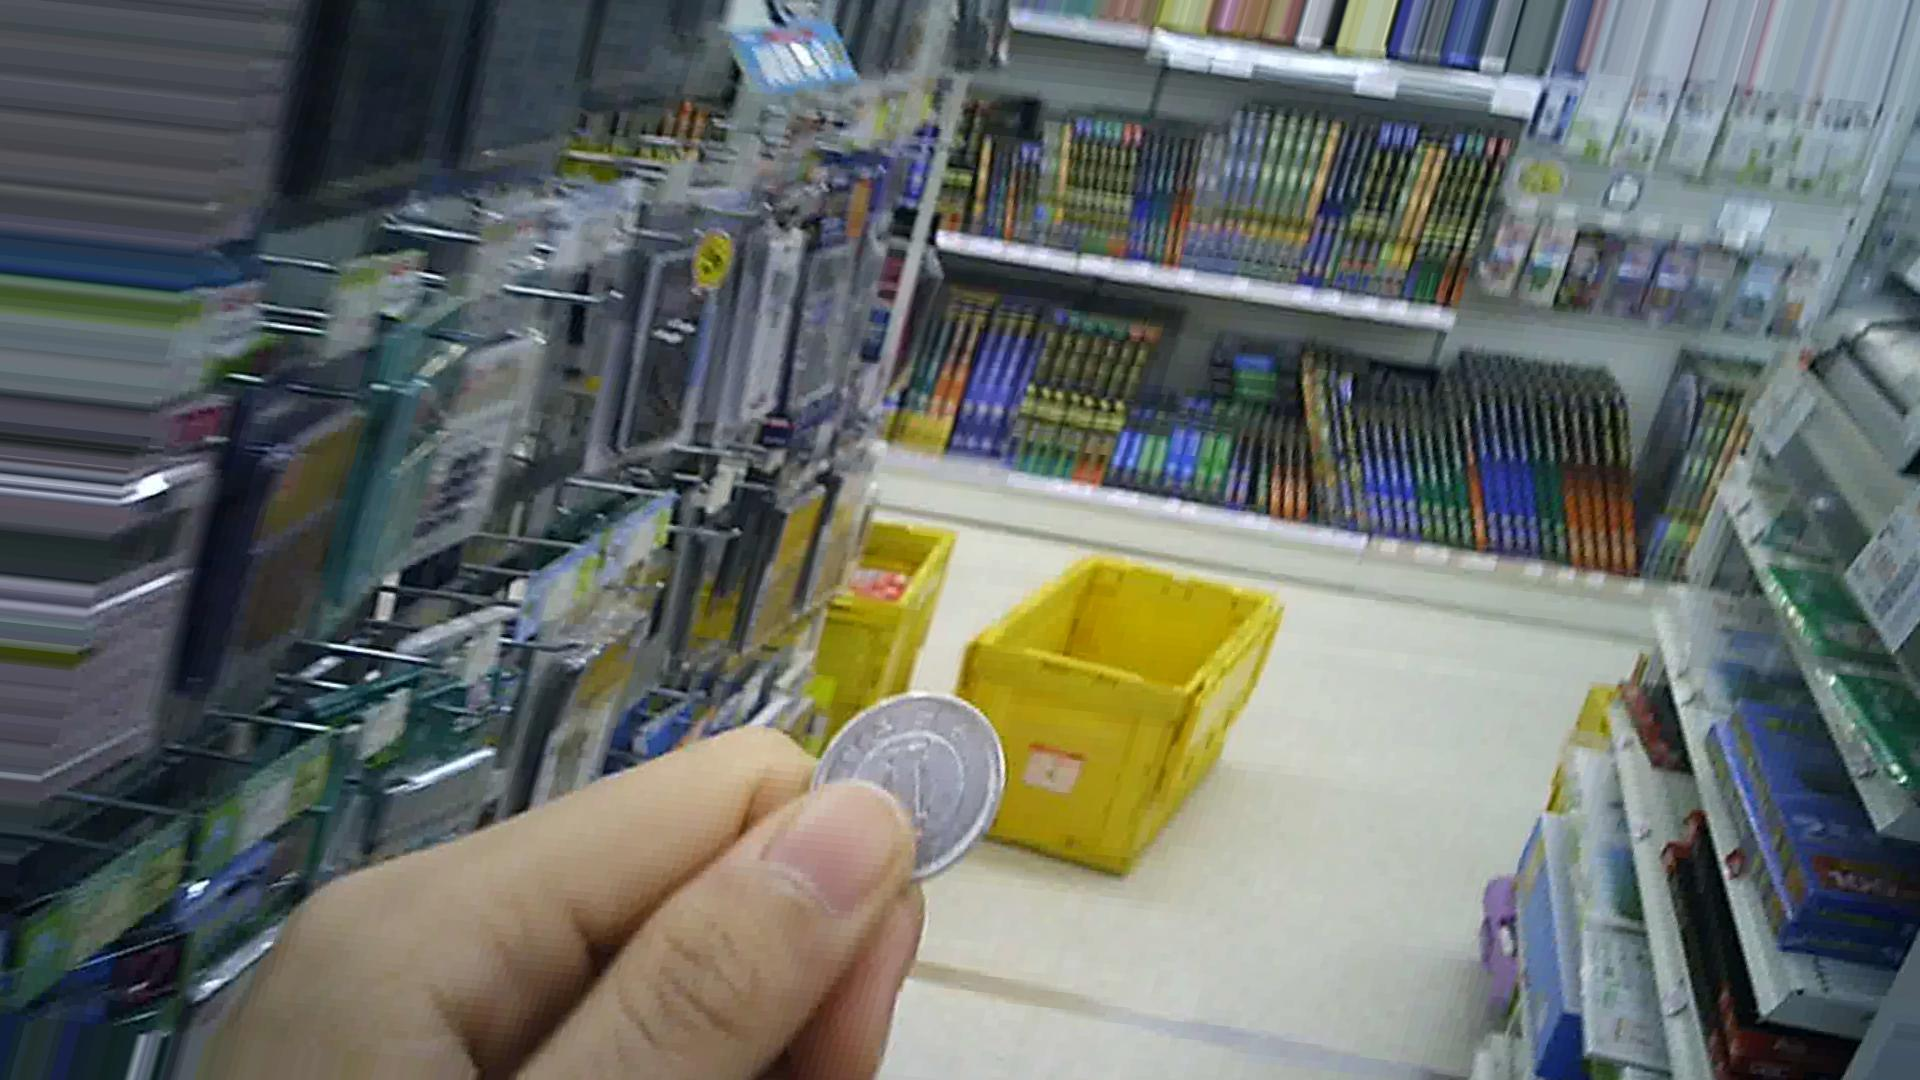1 Yen: (804, 676, 1005, 869)
